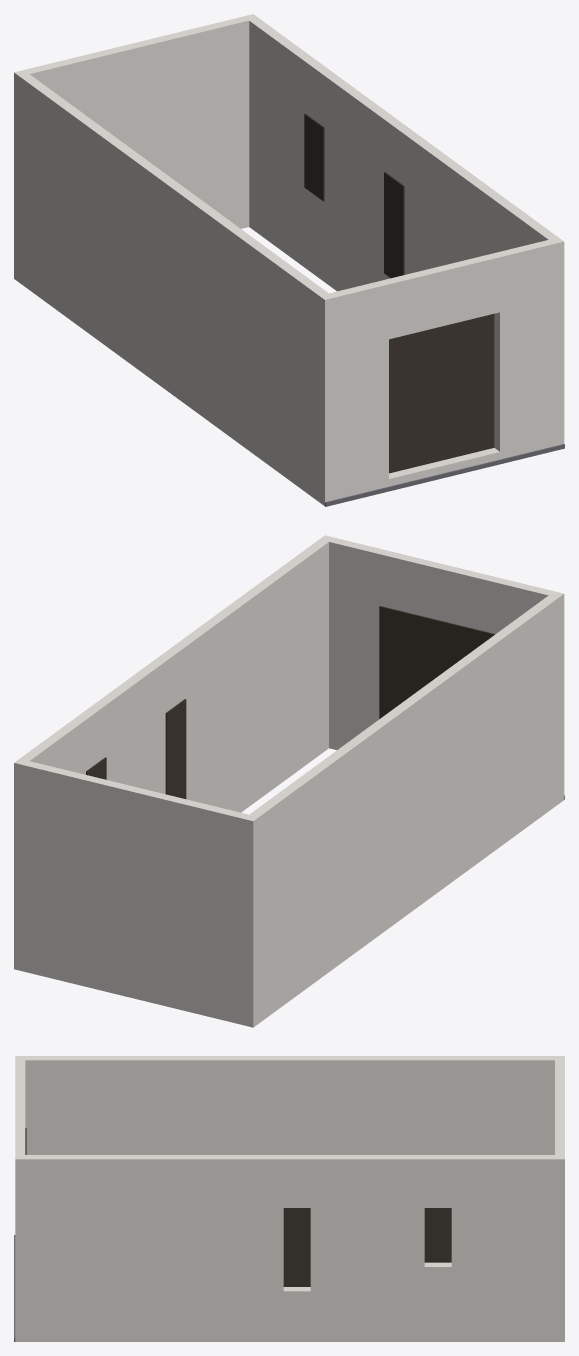
Rendered from SM_Floor_NarrowUpperBalconyEndR_White_364_01.gltf.
3 renders of one model, top to bottom at view 1: azimuth 30°, elevation 25°; view 2: azimuth 150°, elevation 25°; view 3: azimuth 270°, elevation 25°, orthographic. The views are drawn at different scales.
Parts seen in each view (by area): view 1: SM_Floor_NarrowUpperBalconyEndR_White_364_01; view 2: SM_Floor_NarrowUpperBalconyEndR_White_364_01; view 3: SM_Floor_NarrowUpperBalconyEndR_White_364_01.
Boxes of the visible parts, x1=… form: SM_Floor_NarrowUpperBalconyEndR_White_364_01: x1=14, y1=14, x2=564, y2=506; SM_Floor_NarrowUpperBalconyEndR_White_364_01: x1=14, y1=535, x2=564, y2=1027; SM_Floor_NarrowUpperBalconyEndR_White_364_01: x1=14, y1=1056, x2=564, y2=1341.
Size of the model in its own units: 3.64 by 3 by 8.21.
Materials: 1 (1 with a texture image).
